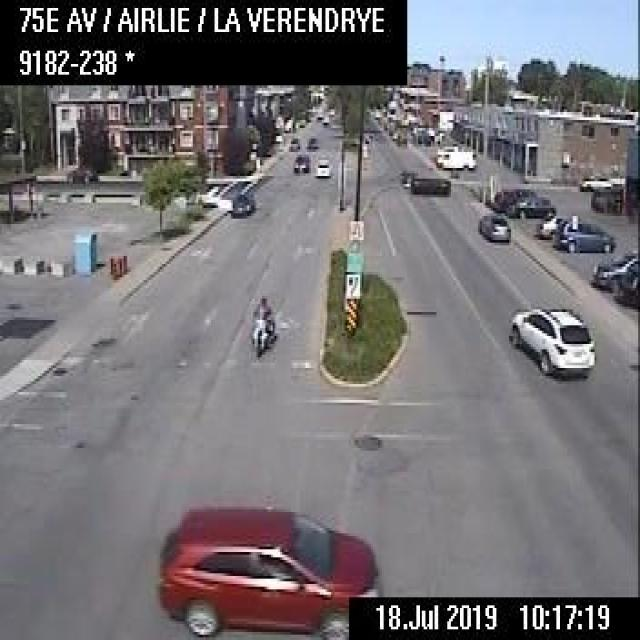construction: (120, 251, 128, 272), (110, 256, 115, 277), (116, 253, 120, 274)
vehicle: (155, 499, 380, 637), (506, 301, 594, 376), (551, 217, 613, 251), (249, 293, 276, 355), (589, 249, 637, 281), (506, 194, 554, 219), (476, 208, 509, 240), (436, 146, 476, 169), (536, 214, 566, 235), (229, 190, 253, 216), (579, 170, 609, 187), (290, 151, 309, 171), (313, 158, 331, 176), (401, 167, 416, 185), (304, 135, 317, 150), (286, 134, 298, 150)
